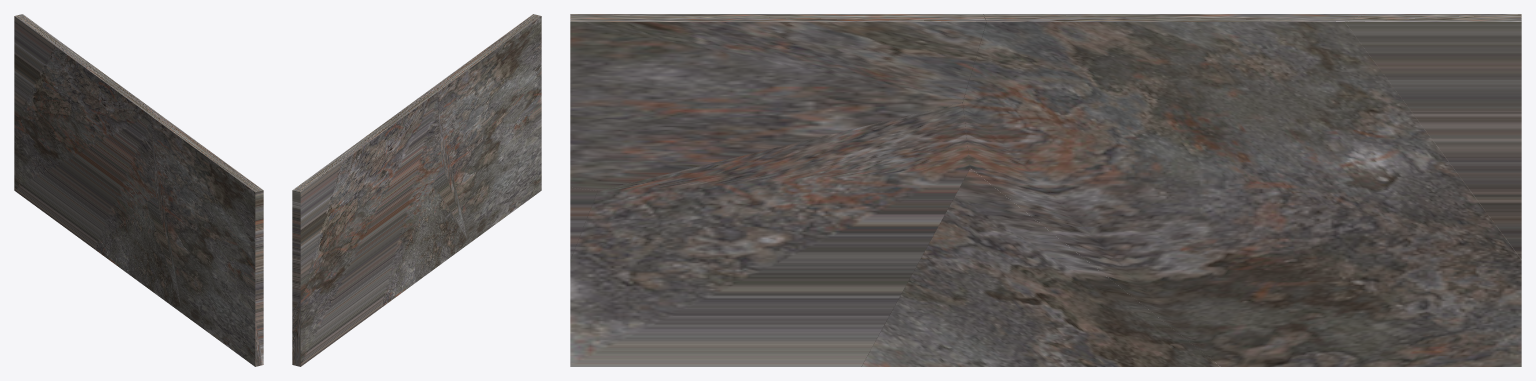
File: BreakableWallBroken.fbx
The picture shows the model from 3 angles, left to right: view 1: azimuth 30°, elevation 25°; view 2: azimuth 150°, elevation 25°; view 3: azimuth 270°, elevation 25°; orthographic projection. The views are drawn at different scales.
Parts seen in each view (by area): view 1: Breakable_cell.003, Breakable_cell, Breakable_cell.002, Breakable_cell.004, Breakable_cell.005, Breakable_cell.001; view 2: Breakable_cell.003, Breakable_cell, Breakable_cell.002, Breakable_cell.004, Breakable_cell.005; view 3: Breakable_cell.003, Breakable_cell, Breakable_cell.002, Breakable_cell.004, Breakable_cell.005, Breakable_cell.001.
Part boxes in pixels (box(x1,y1,x2,y2)): Breakable_cell.003: box(14, 45, 157, 247); Breakable_cell: box(155, 166, 263, 366); Breakable_cell.002: box(150, 113, 263, 278); Breakable_cell.004: box(93, 195, 182, 313); Breakable_cell.005: box(14, 14, 66, 121); Breakable_cell.001: box(248, 274, 263, 317); Breakable_cell.003: box(292, 91, 443, 366); Breakable_cell: box(442, 110, 541, 243); Breakable_cell.002: box(428, 14, 541, 132); Breakable_cell.004: box(379, 165, 468, 308); Breakable_cell.005: box(292, 158, 339, 310); Breakable_cell.003: box(962, 14, 1521, 366); Breakable_cell: box(570, 102, 969, 366); Breakable_cell.002: box(570, 14, 986, 190); Breakable_cell.004: box(861, 168, 1220, 366); Breakable_cell.005: box(1345, 14, 1521, 258); Breakable_cell.001: box(570, 187, 597, 259).
Bounding box in the file's own units: 30 × 600 × 1500.
Materials: 1 (1 with a texture image).
